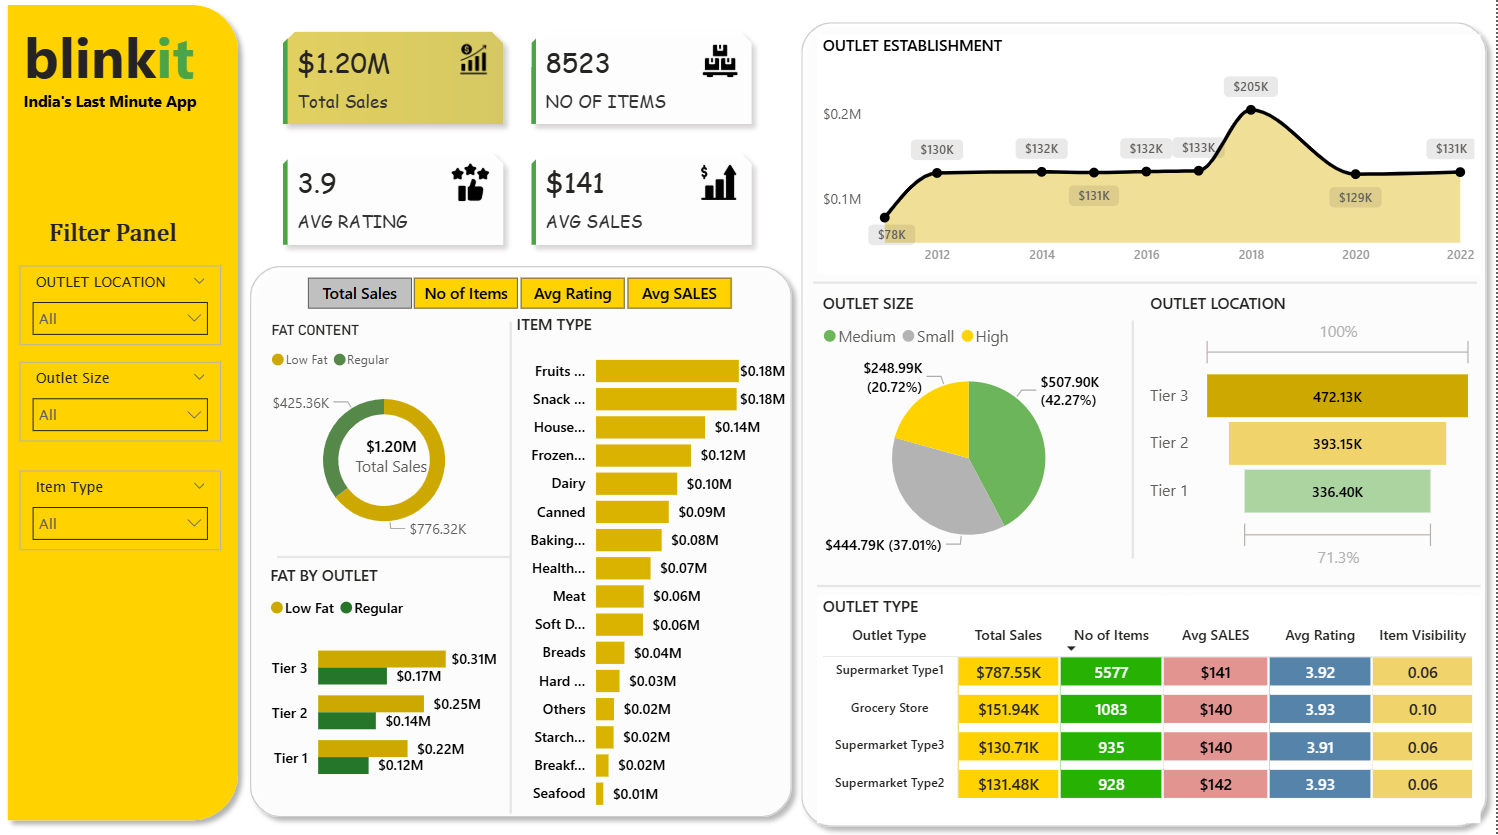

The dashboard page shown, as its layout file describes it:
{"tool":"powerbi","page":{"name":"Page 1","canvas":[1280,720],"ordinal":0},"visuals":[{"type":"shape","box":[0,1.6,214.7,714.2],"z":0},{"type":"textbox","box":[0,15.9,178.1,76.3],"z":1000},{"type":"textbox","box":[0,77.9,178.1,28.6],"z":2000},{"type":"cardVisual","fields":{"Data":["BlinkIT Grocery Data.Total Sales","BlinkIT Grocery Data.No of Items","BlinkIT Grocery Data.Avg Rating","BlinkIT Grocery Data.Avg SALES"]},"box":[227.5,15.9,435.8,216.3],"z":3000},{"type":"shape","box":[207,224.4,480.2,488.4],"z":4000},{"type":"donutChart","title":"FAT CONTENT","fields":{"Y":["BlinkIT Grocery Data.Total Sales"],"Category":["BlinkIT Grocery Data.Item Fat Content"]},"box":[229.1,280.2,202.3,195.3],"z":5000},{"type":"slicer","fields":{"Values":["Metrix.Metrix"]},"box":[238.6,235.4,412,38.2],"z":6000},{"type":"cardVisual","fields":{"Data":["BlinkIT Grocery Data.Total Sales"]},"box":[286.3,359.5,101.8,71.6],"z":7000},{"type":"clusteredBarChart","title":"FAT BY OUTLET","fields":{"Y":["BlinkIT Grocery Data.Total Sales"],"Category":["BlinkIT Grocery Data.Outlet Location Type"],"Series":["BlinkIT Grocery Data.Item Fat Content"]},"box":[227.9,487.2,203.5,201.2],"z":8000},{"type":"shape","box":[238.6,475.6,200.4,11.1],"z":9000},{"type":"shape","box":[425.6,280.2,25.6,419.8],"z":10000},{"type":"barChart","title":"ITEM TYPE","fields":{"Y":["BlinkIT Grocery Data.Total Sales"],"Category":["BlinkIT Grocery Data.Item Type"]},"box":[438.4,273.3,239.5,434.9],"z":11000},{"type":"shape","box":[677.6,15.9,602.8,704.6],"z":12000},{"type":"pieChart","title":"OUTLET SIZE","fields":{"Category":["BlinkIT Grocery Data.Outlet Size"],"Y":["BlinkIT Grocery Data.Total Sales"]},"box":[699.9,254.5,259.3,237],"z":13000},{"type":"lineChart","title":"OUTLET ESTABLISHMENT","fields":{"Category":["BlinkIT Grocery Data.Outlet Establishment Year"],"Y":["BlinkIT Grocery Data.Total Sales"]},"box":[699.9,35,566.3,205.2],"z":14000},{"type":"shape","box":[696.7,240.2,566.3,14.3],"z":15000},{"type":"shape","box":[959.1,279.9,20.7,203.6],"z":16000},{"type":"funnel","title":"OUTLET LOCATION","fields":{"Y":["Sum(BlinkIT Grocery Data.Sales)"],"Category":["BlinkIT Grocery Data.Outlet Location Type"]},"box":[979.8,254.5,286.3,241.8],"z":17000},{"type":"shape","box":[699.9,497.9,566.3,15.9],"z":18000},{"type":"pivotTable","title":"OUTLET TYPE","fields":{"Rows":["BlinkIT Grocery Data.Outlet Type"],"Values":["BlinkIT Grocery Data.Total Sales","BlinkIT Grocery Data.No of Items","BlinkIT Grocery Data.Avg SALES","BlinkIT Grocery Data.Avg Rating","Avg(BlinkIT Grocery Data.Item Visibility)"]},"box":[699.9,513.8,566.3,194.1],"z":19000},{"type":"slicer","fields":{"Values":["BlinkIT Grocery Data.Outlet Location Type"]},"box":[19.1,232.2,171.8,68.4],"z":20000},{"type":"slicer","fields":{"Values":["BlinkIT Grocery Data.Outlet Size"]},"box":[19.1,314.9,171.8,68.4],"z":21000},{"type":"slicer","fields":{"Values":["BlinkIT Grocery Data.Item Type"]},"box":[19.1,407.2,171.8,68.4],"z":22000},{"type":"textbox","box":[19.1,189.3,159.1,42.9],"z":23000}]}

Visuals, with their boxes in screenshot pixels (x1, y1, x2, y2), scaled from the page's 1280x720 canvas onto the 1498x835 screenshot:
shape: 0 2 251 830
textbox: 0 18 208 107
textbox: 0 90 208 124
cardVisual - BlinkIT Grocery Data.Total Sales x BlinkIT Grocery Data.No of Items: 266 18 776 269
shape: 242 260 804 827
"FAT CONTENT" donutChart: 268 325 505 551
slicer - Metrix.Metrix: 279 273 761 317
cardVisual - BlinkIT Grocery Data.Total Sales: 335 417 454 500
"FAT BY OUTLET" clusteredBarChart: 267 565 505 798
shape: 279 552 514 564
shape: 498 325 528 812
"ITEM TYPE" barChart: 513 317 793 821
shape: 793 18 1497 834
"OUTLET SIZE" pieChart: 819 295 1123 570
"OUTLET ESTABLISHMENT" lineChart: 819 41 1482 279
shape: 815 279 1478 295
shape: 1122 325 1147 561
"OUTLET LOCATION" funnel: 1147 295 1482 576
shape: 819 577 1482 596
"OUTLET TYPE" pivotTable: 819 596 1482 821
slicer - BlinkIT Grocery Data.Outlet Location Type: 22 269 223 349
slicer - BlinkIT Grocery Data.Outlet Size: 22 365 223 445
slicer - BlinkIT Grocery Data.Item Type: 22 472 223 552
textbox: 22 220 209 269
